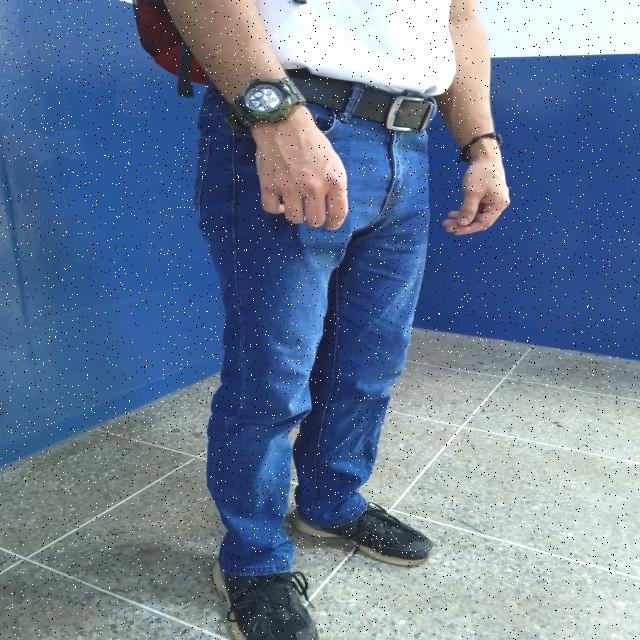pantalon_oscuro: (196, 82, 432, 578)
